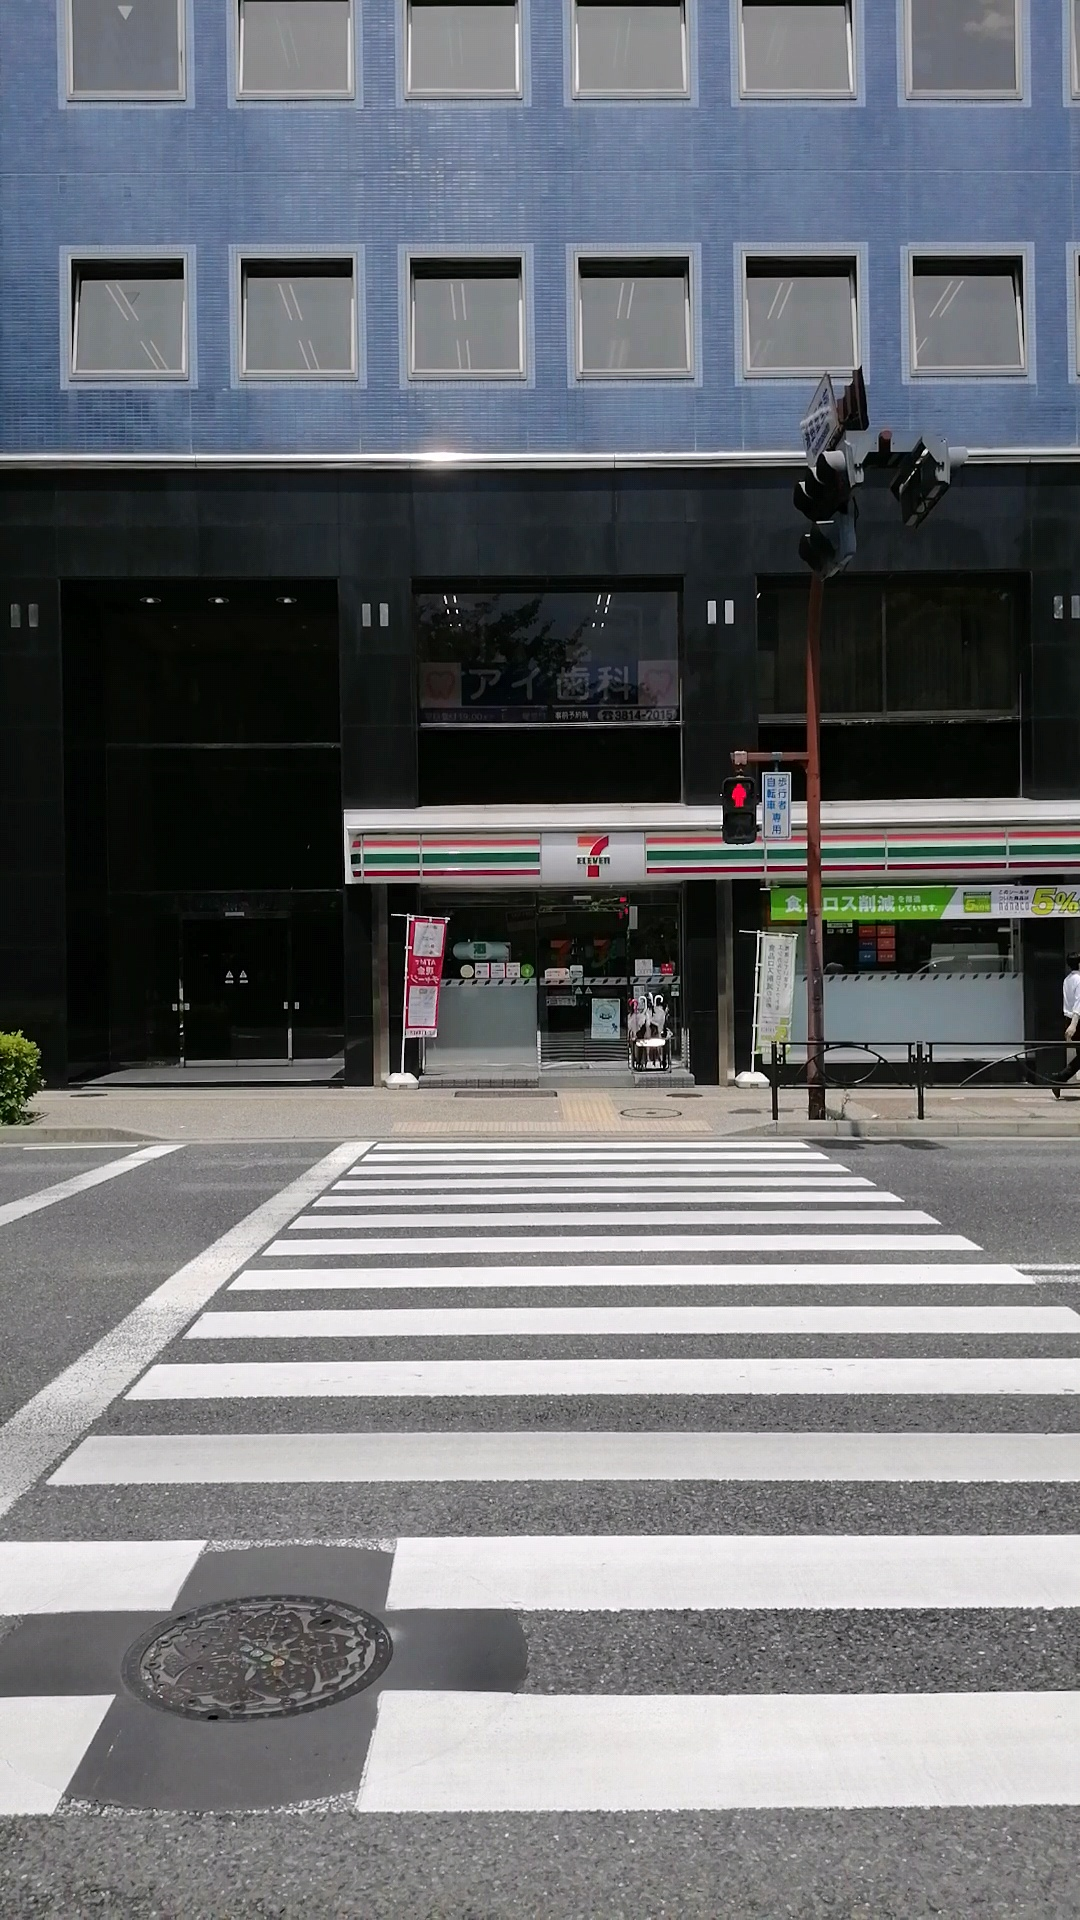red: (721, 775, 756, 844)
